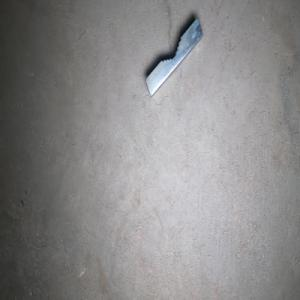ClampPart: (144, 17, 203, 97)
